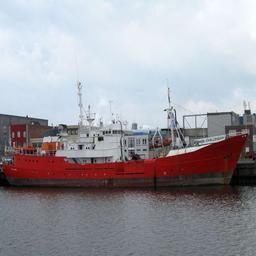Ship: (4, 105, 252, 193)
